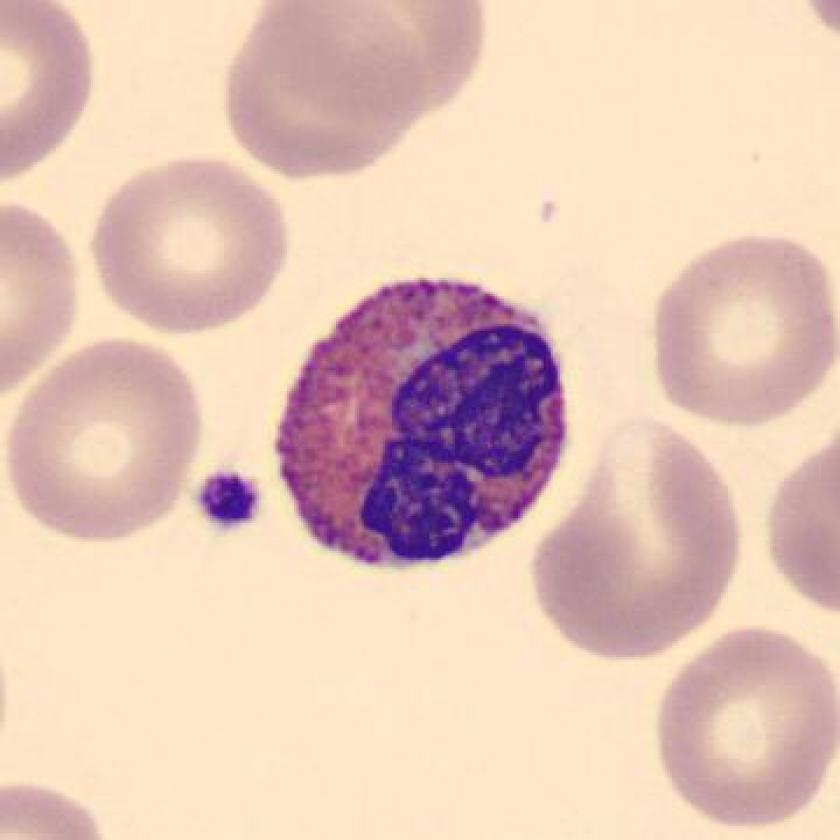eosinophil: (260, 260, 580, 584)
